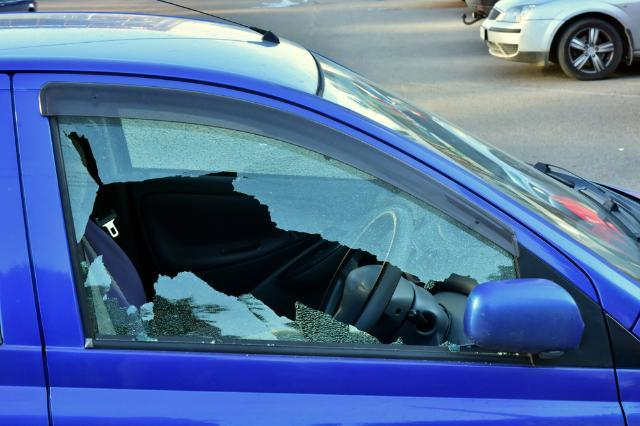glass shatter: (58, 116, 517, 348)
